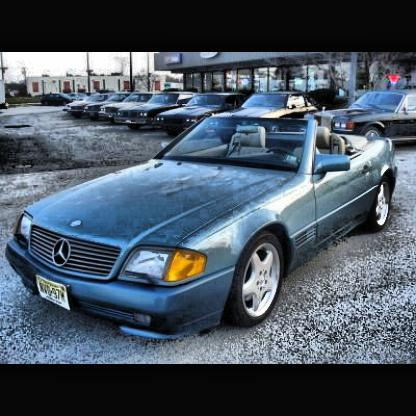Mercedes-Benz 300-Class Convertible 1993: (7, 118, 397, 341)
